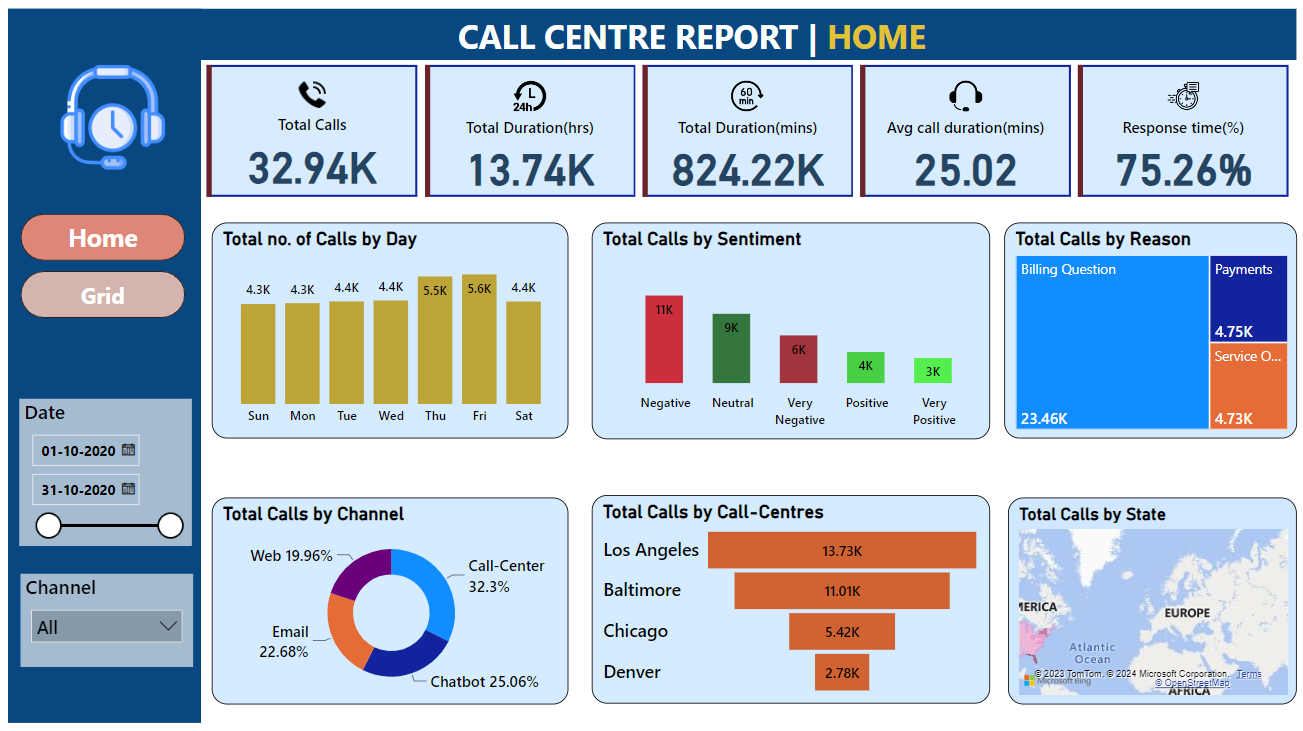

Layout of this report page (visuals, bound fields, positions):
{"tool":"powerbi","page":{"name":"Home","canvas":[1280,720],"ordinal":0},"visuals":[{"type":"textbox","box":[10,0,280,280],"z":0},{"type":"shape","box":[9.8,8.6,1260.3,50.1],"z":1000},{"type":"shape","box":[10,8.8,188.8,698.8],"z":2000},{"type":"cardVisual","fields":{"Data":["Call Center_.Total Calls","Call Center_.Total Duration(hrs)","Call Center_.Total Duration(mins)","Call Center_.Average call duration(mins)","Call Center_.Response time(%)"]},"box":[199.3,58.7,1070.8,139.4],"z":3000},{"type":"textbox","box":[445,8.6,572.1,66],"z":4000},{"type":"lineStackedColumnComboChart","title":"Total no. of Calls by Day","fields":{"Y":["Call Center_.Total Calls"],"Category":["Date table.day"]},"box":[208.8,217.5,348.8,211.2],"z":5000},{"type":"treemap","fields":{"Group":["Call Center_.Reason"],"Values":["Call Center_.Total Calls"]},"box":[983.8,217.5,286.2,211.2],"z":6000},{"type":"donutChart","fields":{"Category":["Call Center_.Channel"],"Y":["Call Center_.Total Calls"]},"box":[208.8,486.2,348.8,202.5],"z":7000},{"type":"columnChart","fields":{"Category":["Call Center_.Sentiment"],"Y":["Call Center_.Total Calls"]},"box":[580.3,217.5,389.9,211.8],"z":8000},{"type":"funnel","title":"Total Calls by Call-Centres ","fields":{"Category":["Call Center_.Call-Centres City"],"Y":["Call Center_.Total Calls"]},"box":[580.3,484.5,389.9,203.9],"z":9000},{"type":"filledMap","fields":{"Category":["Call Center_.State"]},"box":[987.5,486.2,282.5,202.5],"z":10000},{"type":"slicer","title":"Date","fields":{"Values":["Date table.Date"]},"box":[21.2,390,168.8,143.8],"z":11000},{"type":"slicer","title":"Channel","fields":{"Values":["Call Center_.Channel"]},"box":[22.5,561.2,168.8,91.2],"z":12000},{"type":"image","box":[32.5,58.8,158.8,112.5],"z":13000},{"type":"pageNavigator","box":[22.5,208.8,161.2,103.8],"z":14000}]}

Visuals, with their boxes in screenshot pixels (x1, y1, x2, y2), scaled from the page's 1280x720 canvas onto the 1303x731 screenshot:
textbox: rect(10, 0, 295, 284)
shape: rect(10, 9, 1293, 60)
shape: rect(10, 9, 202, 718)
cardVisual - Call Center_.Total Calls x Call Center_.Total Duration(hrs): rect(203, 60, 1293, 201)
textbox: rect(453, 9, 1035, 76)
"Total no. of Calls by Day" lineStackedColumnComboChart: rect(213, 221, 568, 435)
treemap - Call Center_.Reason x Call Center_.Total Calls: rect(1001, 221, 1293, 435)
donutChart - Call Center_.Channel x Call Center_.Total Calls: rect(213, 494, 568, 699)
columnChart - Call Center_.Sentiment x Call Center_.Total Calls: rect(591, 221, 988, 436)
"Total Calls by Call-Centres " funnel: rect(591, 492, 988, 699)
filledMap - Call Center_.State: rect(1005, 494, 1293, 699)
"Date" slicer: rect(22, 396, 193, 542)
"Channel" slicer: rect(23, 570, 195, 662)
image: rect(33, 60, 195, 174)
pageNavigator: rect(23, 212, 187, 317)
